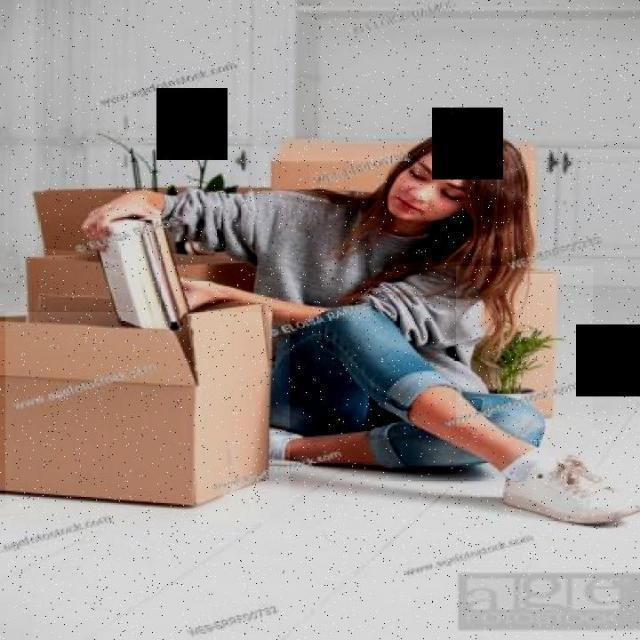box: (5, 312, 290, 513), (20, 186, 201, 352), (456, 266, 593, 427), (261, 130, 408, 216)
